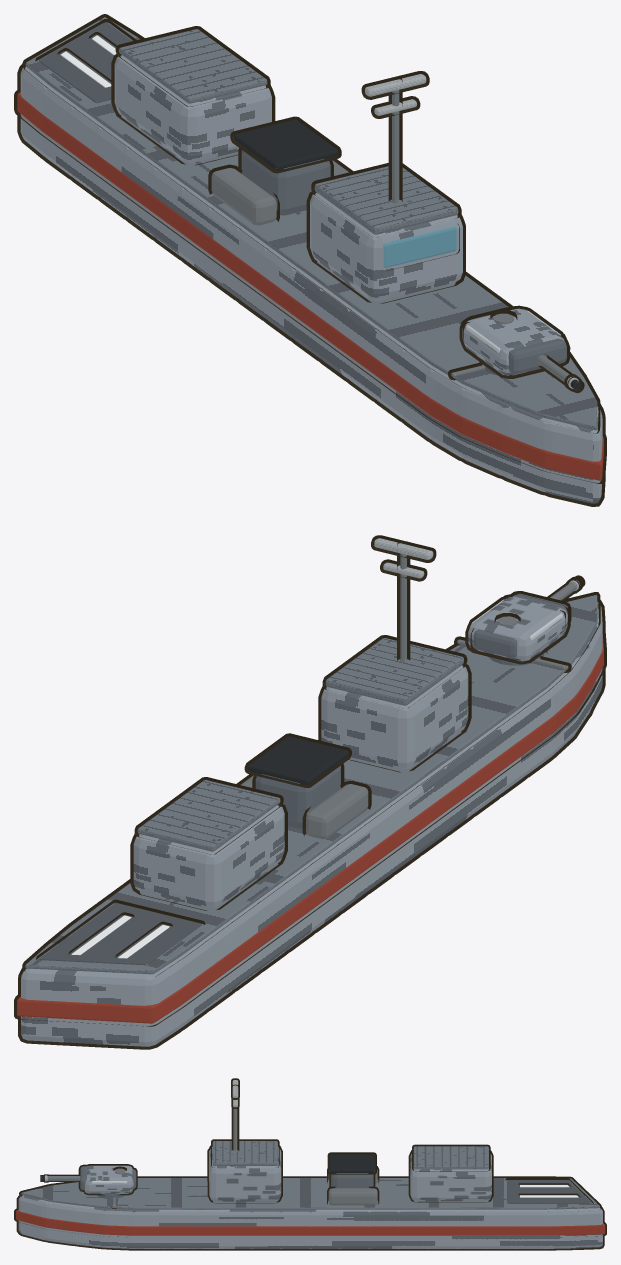
Rendered from destroyer.glb.
3 views of the same model, one above another, from view 1: azimuth 30°, elevation 25°; view 2: azimuth 150°, elevation 25°; view 3: azimuth 270°, elevation 25° (orthographic). The views are drawn at different scales.
Visible parts, largest first — view 1: Destroyer, DDG_Gun, DDG_Barrel; view 2: Destroyer, DDG_Gun; view 3: Destroyer, DDG_Gun, DDG_Barrel.
Boxes of the visible parts, x1,y1,x2,y2 form: Destroyer: (14, 14, 606, 506); DDG_Gun: (459, 305, 569, 378); DDG_Barrel: (537, 354, 584, 393); Destroyer: (14, 535, 606, 1049); DDG_Gun: (465, 591, 571, 665); Destroyer: (14, 1078, 606, 1250); DDG_Gun: (78, 1164, 137, 1199); DDG_Barrel: (40, 1174, 80, 1182).
Bounding box in the file's own units: 0.2131 × 0.4471 × 1.59.
2 materials, 1 textured.
